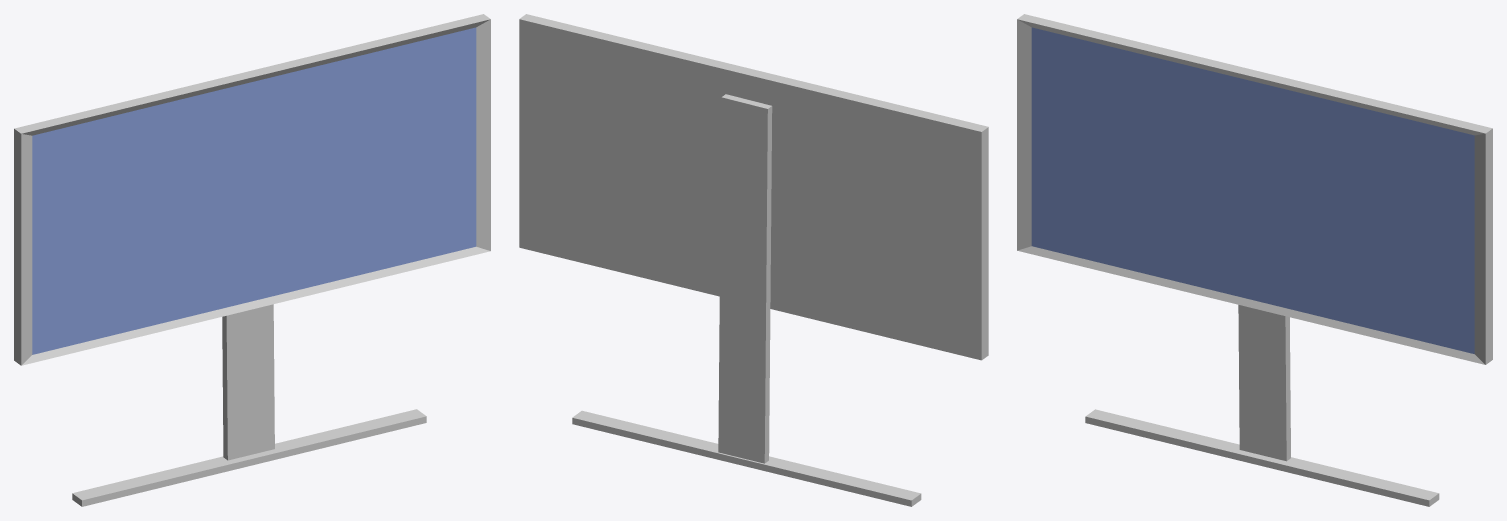
File: monitor.glb
3 views of the same model, side by side, from view 1: azimuth 30°, elevation 25°; view 2: azimuth 150°, elevation 25°; view 3: azimuth 330°, elevation 25° (orthographic).
Parts seen in each view (by area): view 1: Cube; view 2: Cube; view 3: Cube.
Boxes of the visible parts, x1,y1,x2,y2 form: Cube: [14, 14, 490, 506]; Cube: [519, 14, 988, 506]; Cube: [1017, 14, 1492, 506].
Bounding box in the file's own units: 4.08 × 3.25 × 0.2054.
